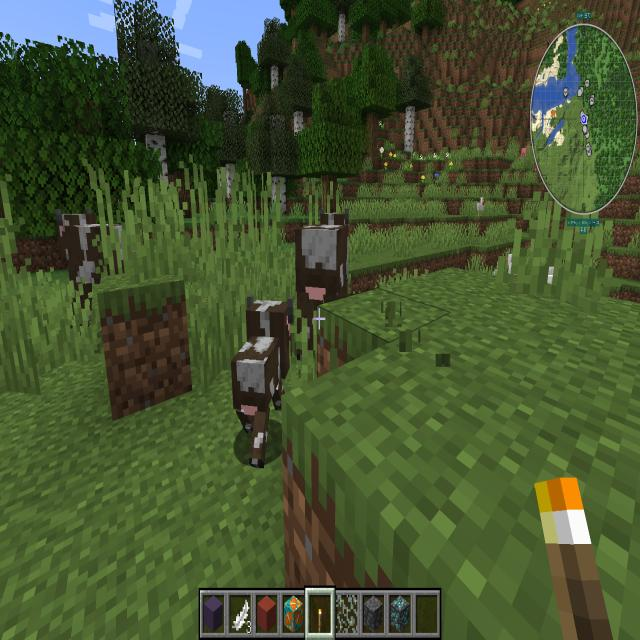cow: (221, 281, 310, 479), (284, 195, 376, 354), (45, 199, 148, 338)
